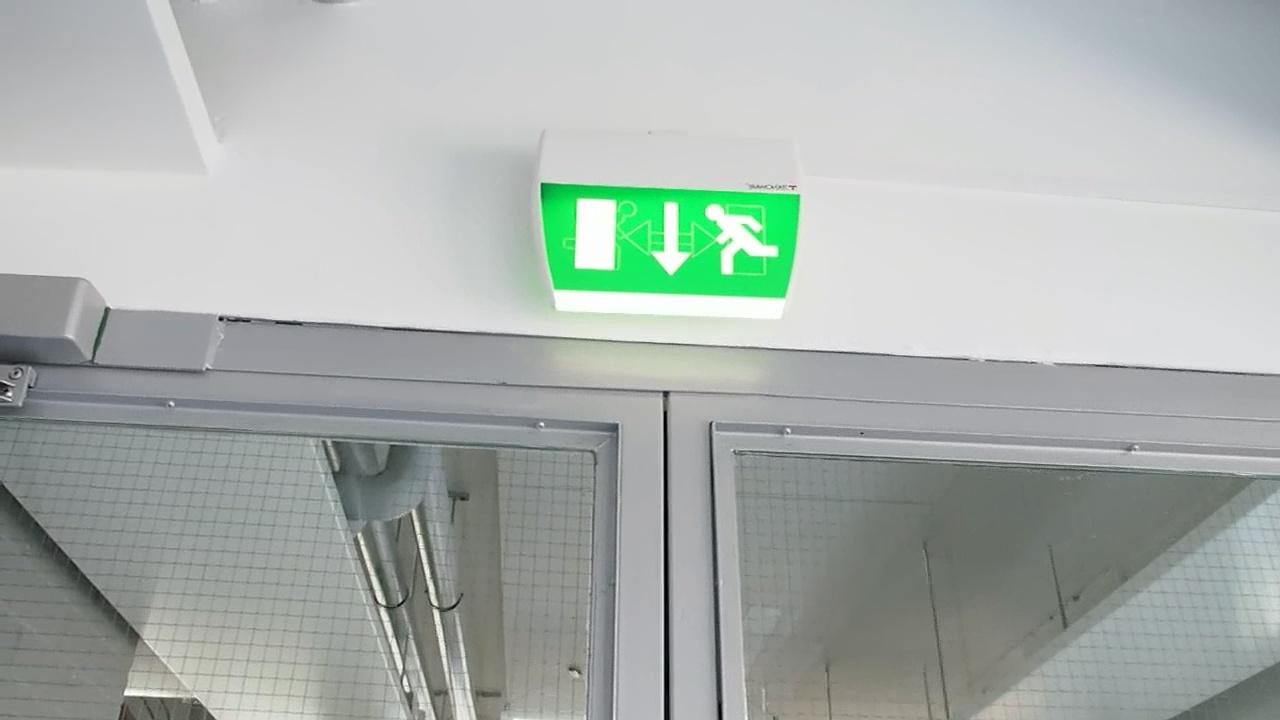exit: (534, 181, 811, 310)
